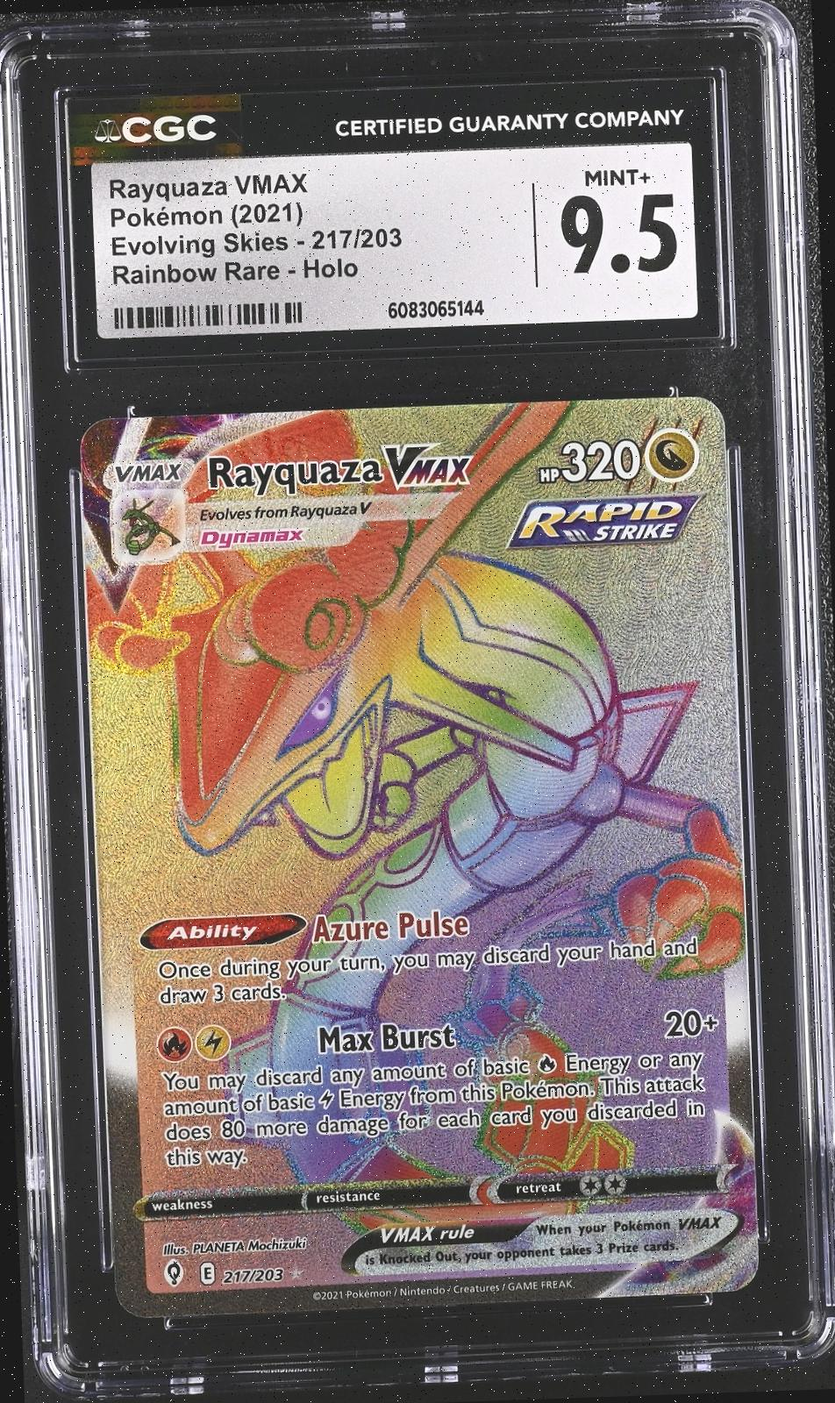card-2UtV: (78, 396, 759, 1319)
